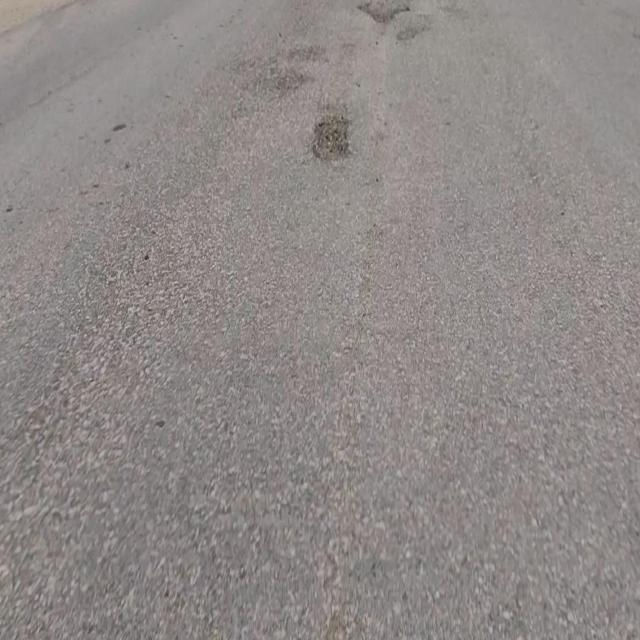Potholes: (376, 0, 486, 30), (313, 111, 350, 166)
